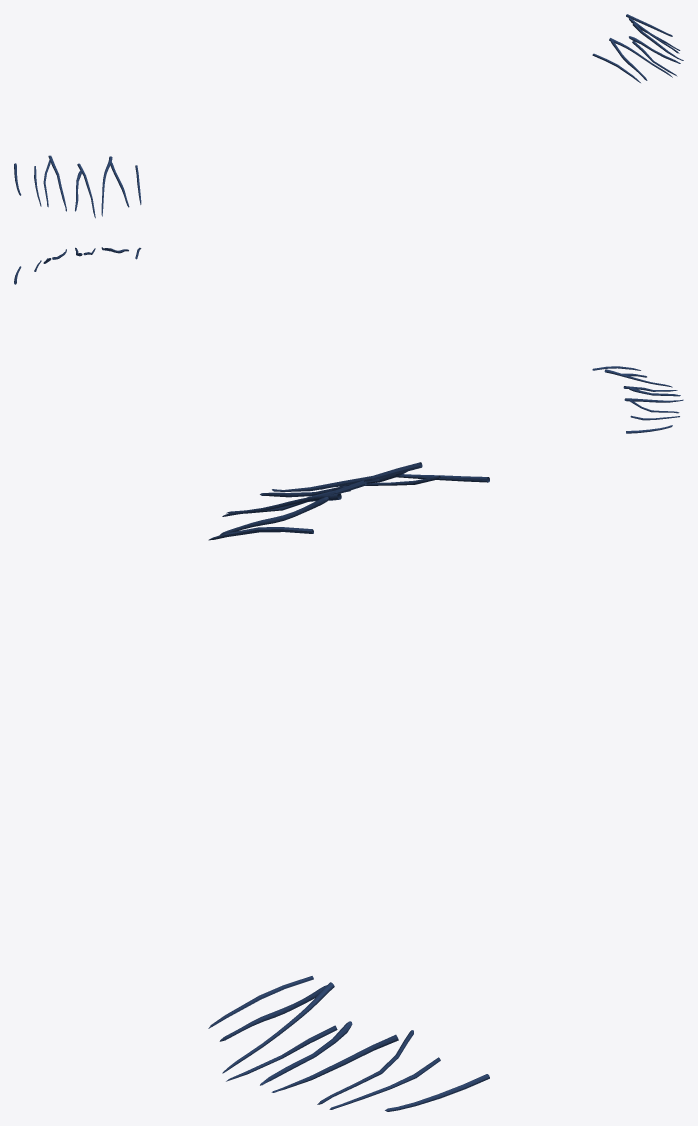
File: Vena Digital Dorsal.FBX
3 views of the same model, one above another, from view 1: azimuth 30°, elevation 25°; view 2: azimuth 150°, elevation 25°; view 3: azimuth 270°, elevation 25° (orthographic). The views are drawn at different scales.
Visible parts, largest first — view 1: CS_Veins; view 2: CS_Veins; view 3: CS_Veins.
Part boxes in pixels (x1,y1,x2,y2): CS_Veins: [14, 14, 683, 218]; CS_Veins: [14, 247, 683, 433]; CS_Veins: [208, 462, 489, 1111].
Bounding box in the file's own units: 1916 × 88.27 × 359.
